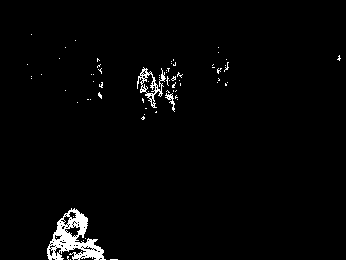person: (46, 207, 113, 260), (157, 58, 182, 116), (137, 65, 158, 118)
